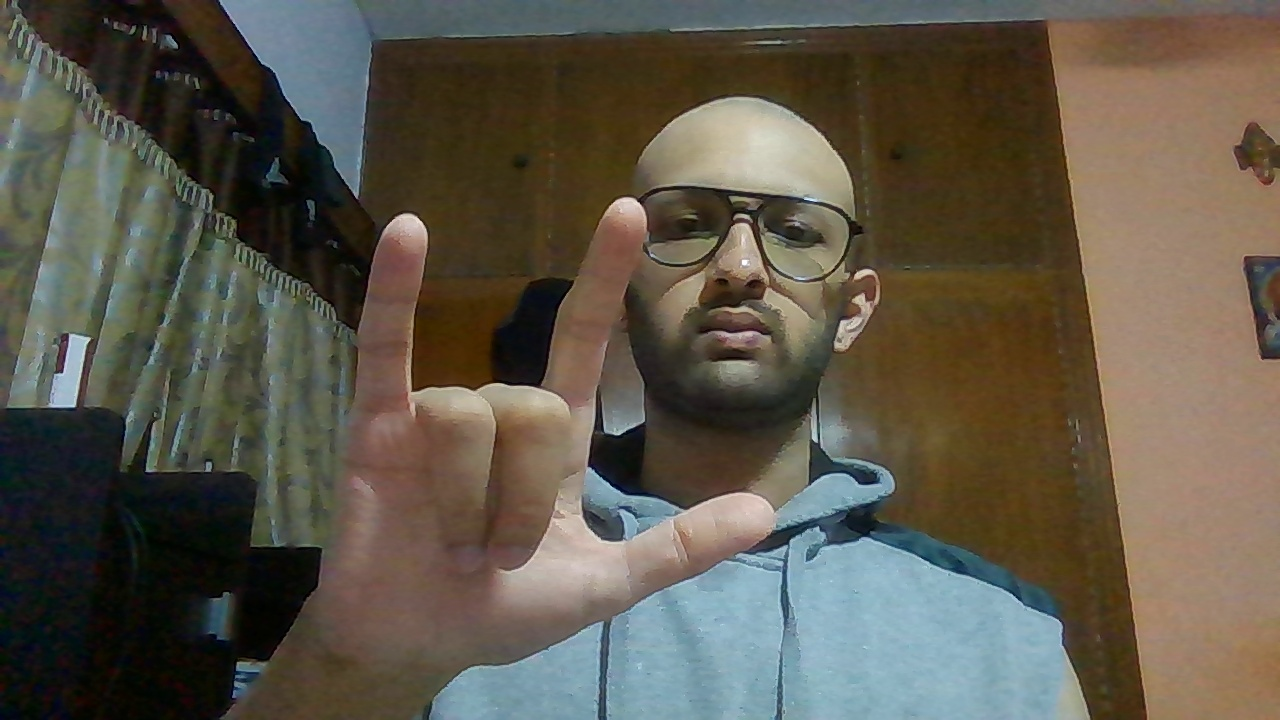I Love You: (321, 198, 779, 679)
